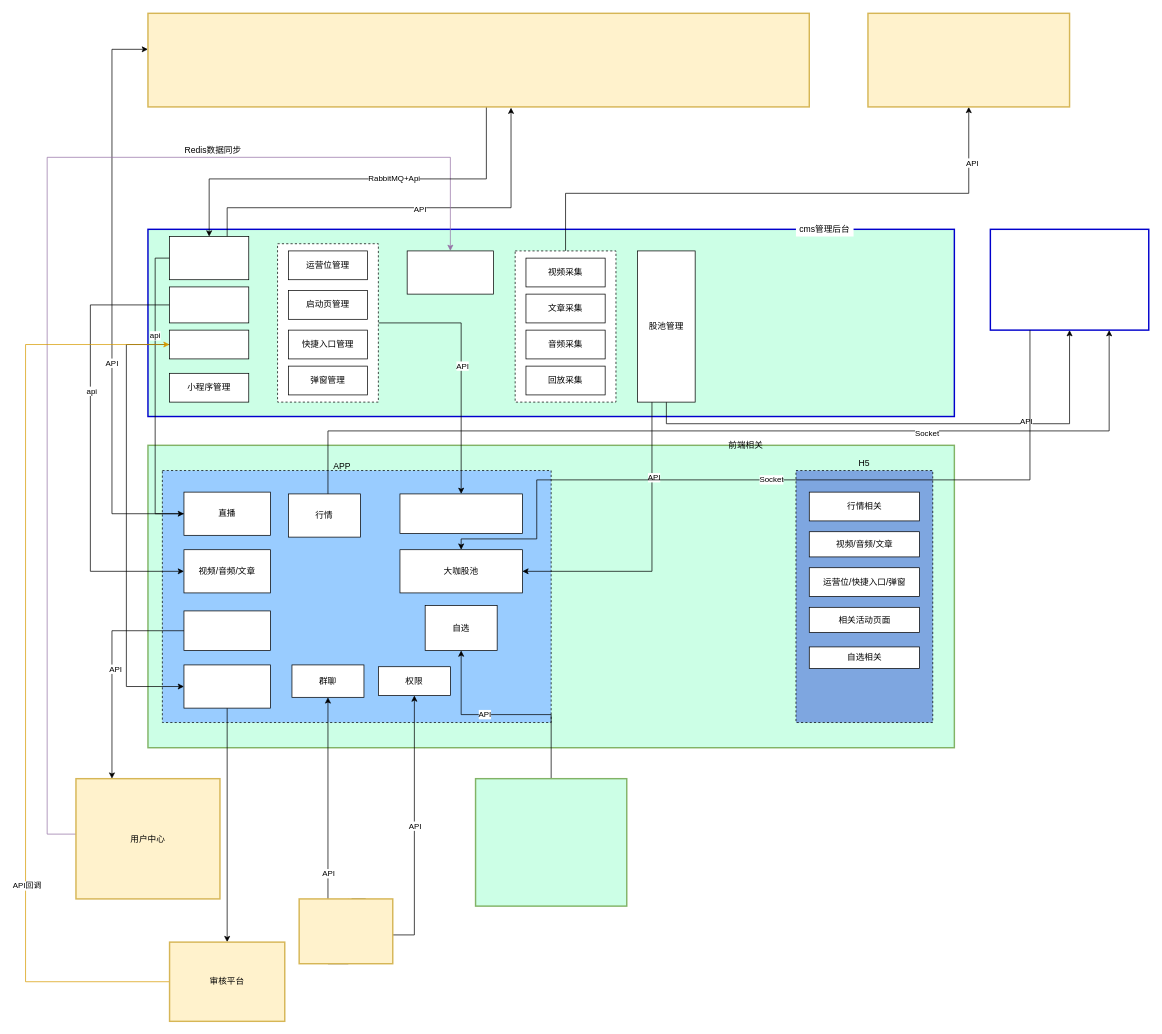
Some shapes in this 1162 by 1034 pixel diagram are drawn without their labels. The shapes that lost their labels are listed below. From the top down, each one's box as (x1, y1, x2, y2) in pixels, then its label:
(147, 12, 810, 107): 直播中台
(867, 12, 1070, 107): 采集中台
(169, 236, 249, 280): 直播管理
(406, 250, 494, 294): 用户数据同步
(989, 228, 1149, 330): 集团行情
(169, 286, 249, 323): 音频/视频/文章
(169, 329, 249, 359): 评论管理
(399, 493, 522, 534): 运营位/快捷入口/弹窗/启动页
(183, 610, 270, 651): 修改用户信息/授权登录
(183, 664, 270, 708): 评论
(474, 778, 627, 906): AIGW项目
(298, 898, 393, 964): CRM系统
